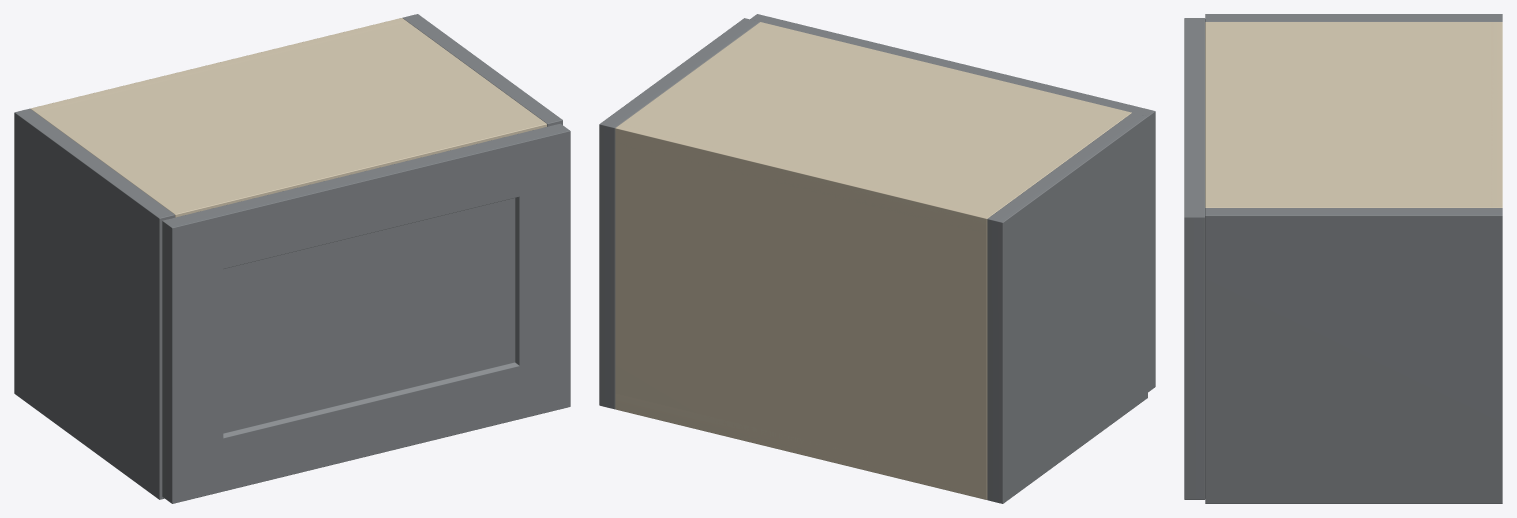
File: oppein-ply-gss-w1812.glb
3 views of the same model, side by side, from view 1: azimuth 30°, elevation 25°; view 2: azimuth 150°, elevation 25°; view 3: azimuth 270°, elevation 25° (orthographic). The views are drawn at different scales.
Parts seen in each view (by area): view 1: Door, Cabinet top, Cabinet side, Cabinet side.001, Cabinet back; view 2: Cabinet back, Cabinet top, Cabinet side, Cabinet side.001, Door, Cabinet bottom; view 3: Cabinet side.001, Cabinet top, Door, Cabinet back, Cabinet side.
Part boxes in pixels (<box>): Door: <box>162,123,570,503</box>; Cabinet top: <box>36,22,546,217</box>; Cabinet side: <box>14,108,174,499</box>; Cabinet side.001: <box>402,14,562,126</box>; Cabinet back: <box>30,18,407,112</box>; Cabinet back: <box>615,124,992,499</box>; Cabinet top: <box>615,22,1131,234</box>; Cabinet side: <box>987,112,1147,503</box>; Cabinet side.001: <box>599,18,759,409</box>; Door: <box>750,14,1155,392</box>; Cabinet bottom: <box>615,394,987,495</box>; Cabinet side.001: <box>1205,208,1502,503</box>; Cabinet top: <box>1205,22,1502,207</box>; Door: <box>1184,18,1205,499</box>; Cabinet back: <box>1490,22,1502,207</box>; Cabinet side: <box>1205,14,1502,21</box>.
Bounding box in the file's own units: 0.4572 × 0.3048 × 0.3048.
